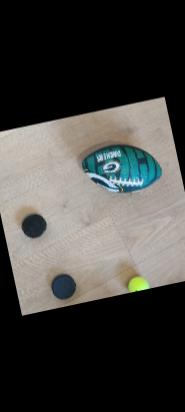Rugby: (74, 134, 164, 204)
hockey puck: (13, 209, 48, 242), (46, 272, 80, 302)
